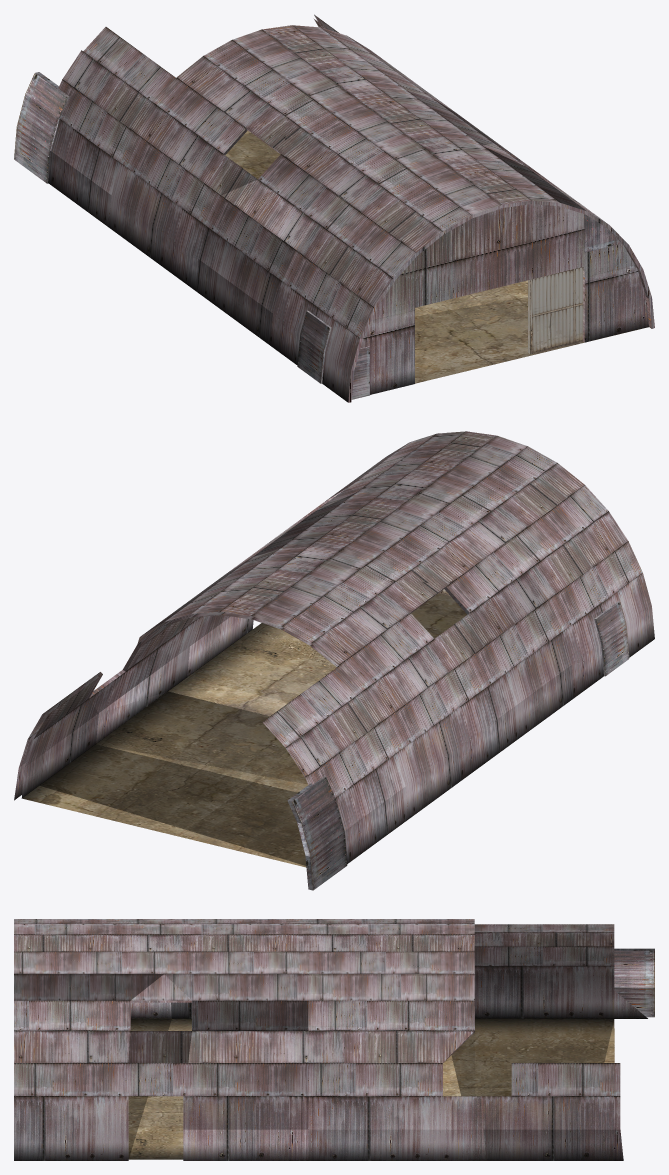
The model's file is big_hall_1.fbx.
3 renders of one model, top to bottom at view 1: azimuth 30°, elevation 25°; view 2: azimuth 150°, elevation 25°; view 3: azimuth 270°, elevation 25°, orthographic. The views are drawn at different scales.
Parts seen in each view (by area): view 1: hala; view 2: hala; view 3: hala.
Part boxes in pixels (x1,y1,x2,y2): hala: [14, 14, 654, 402]; hala: [14, 431, 654, 890]; hala: [14, 919, 654, 1160].
Bounding box in the file's own units: 5.41 × 2.7 × 10.15.
